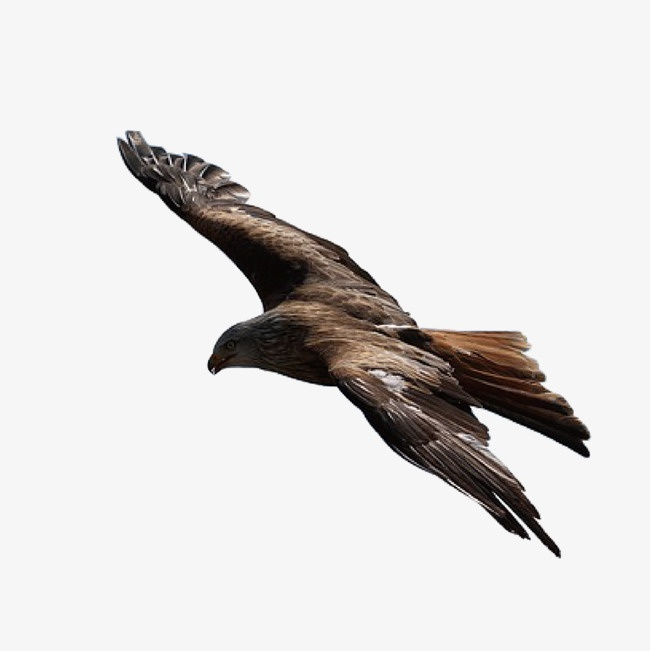bird: (114, 122, 595, 563)
